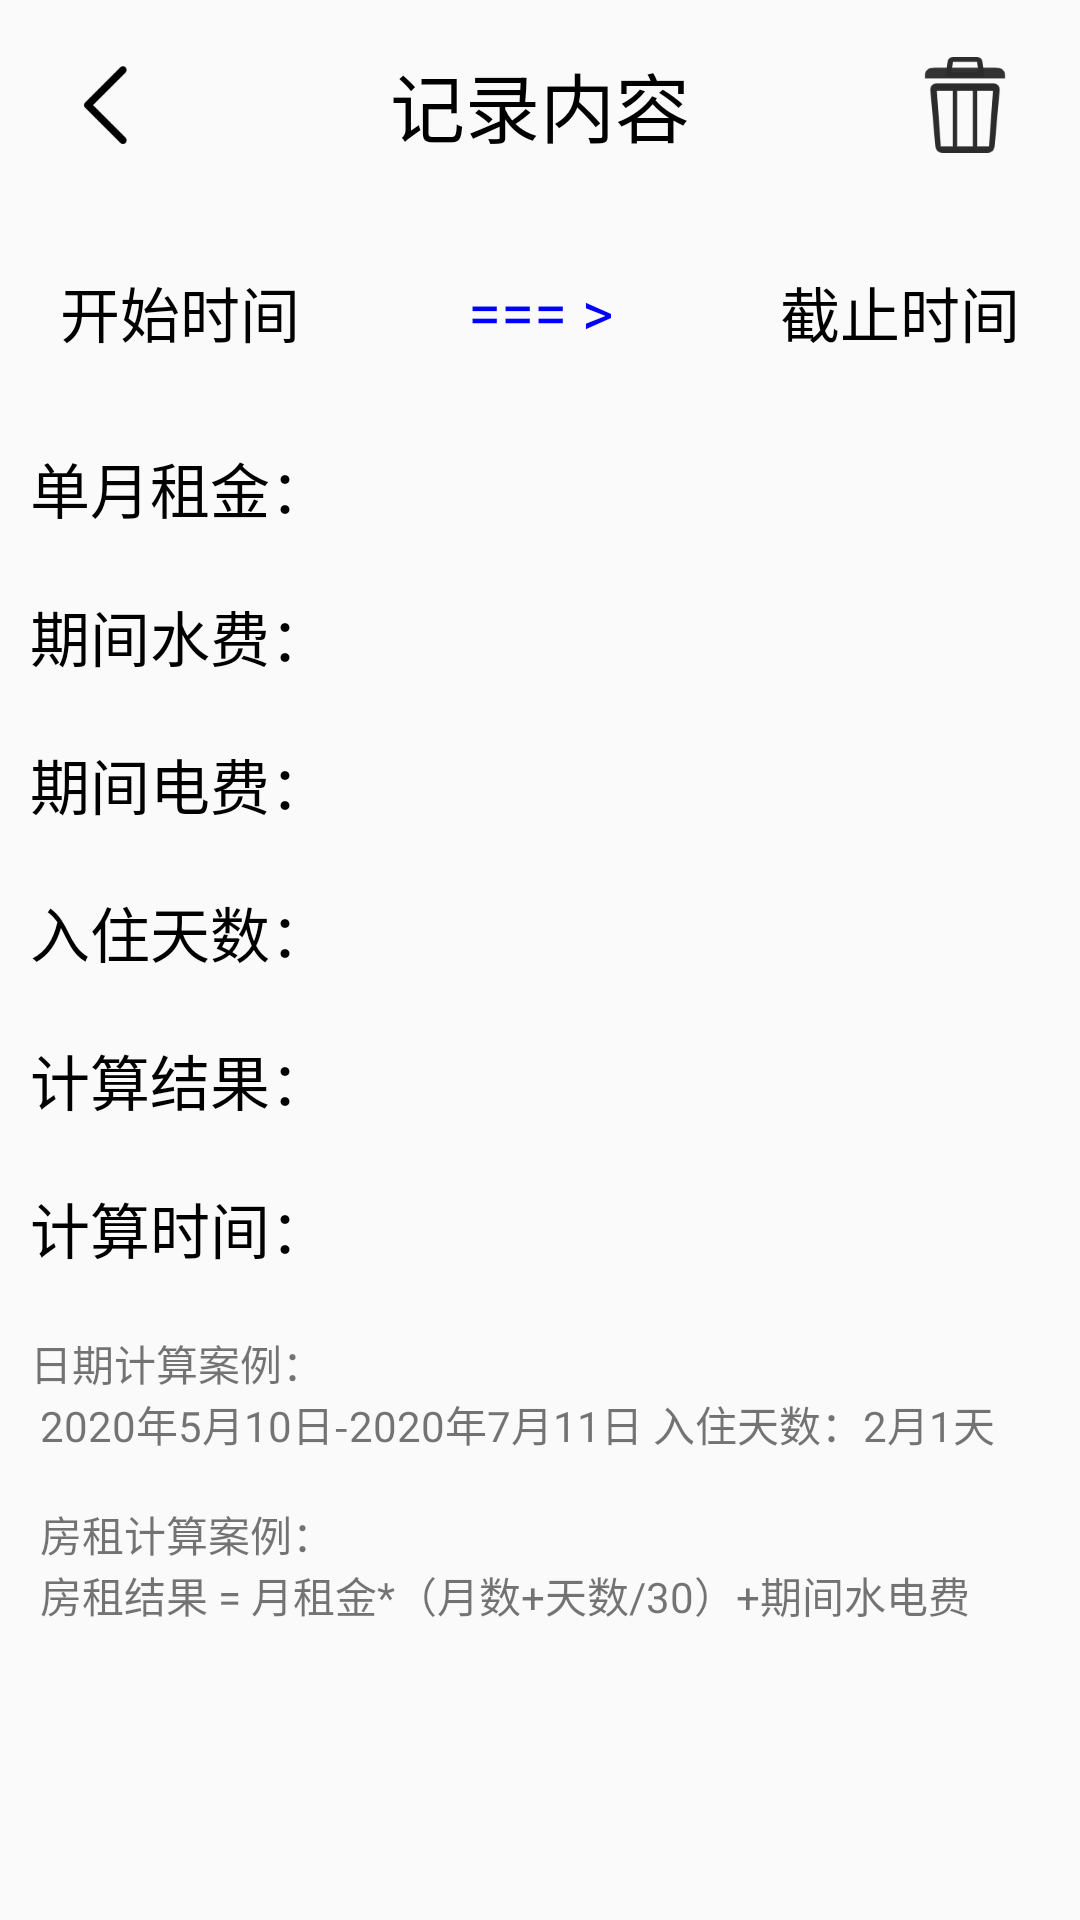

Icon click points for this 1080px×1920px phone screenshot, format (x=x, y=y):
back: (x=105, y=105)
delete: (x=965, y=105)
